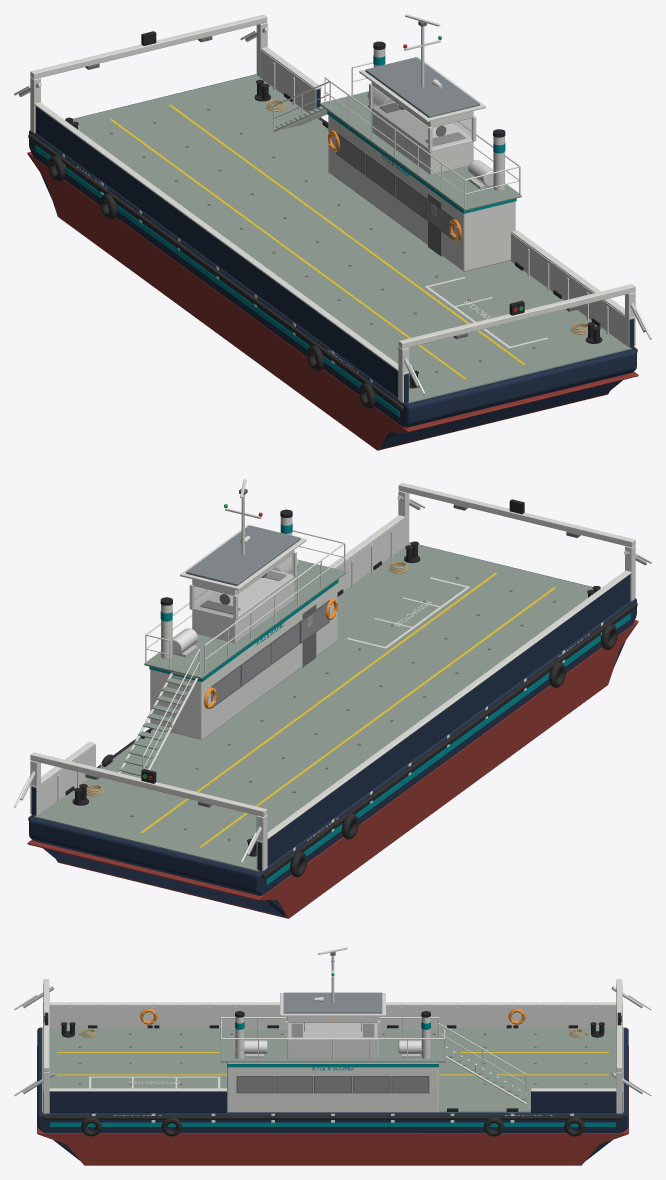
Rendered from ferry_small.glb.
The picture shows the model from 3 angles, top to bottom: view 1: azimuth 30°, elevation 25°; view 2: azimuth 150°, elevation 25°; view 3: azimuth 270°, elevation 25°; orthographic projection. The views are drawn at different scales.
Visible parts, largest first — view 1: SM_ferry_small; view 2: SM_ferry_small; view 3: SM_ferry_small.
Boxes of the visible parts, x1,y1,x2,y2 form: SM_ferry_small: (14,14,651,450); SM_ferry_small: (14,479,651,918); SM_ferry_small: (14,947,651,1165).
Bounding box in the file's own units: 9.7 × 9.87 × 27.73.
